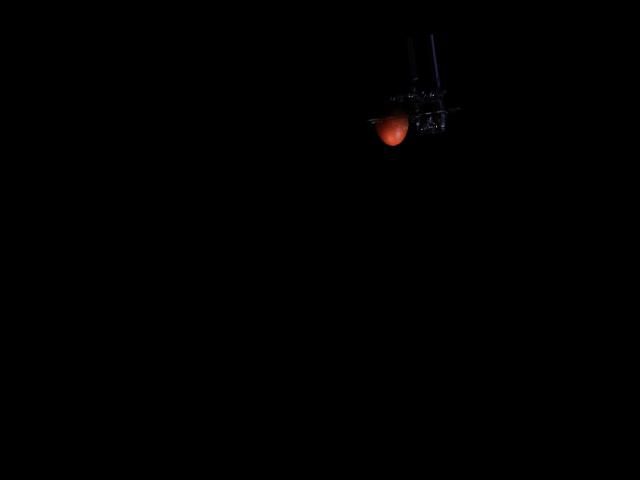egg: (370, 98, 410, 147)
